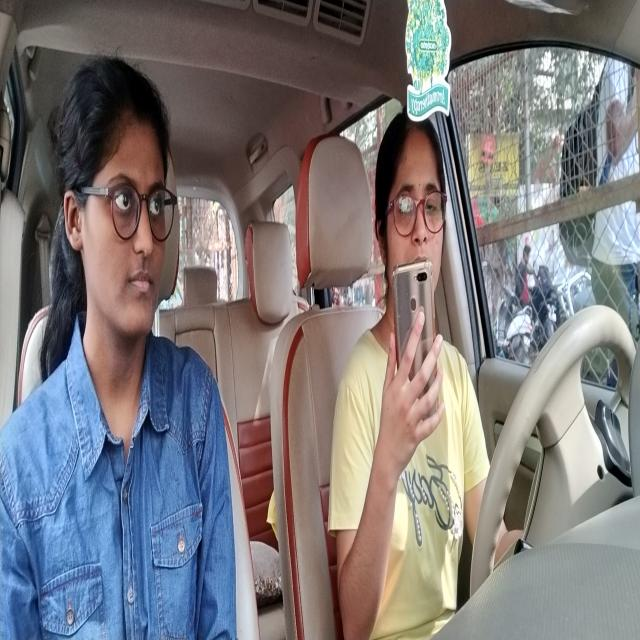mobile: (393, 263, 437, 375)
person: (64, 73, 171, 334), (378, 108, 443, 286)
